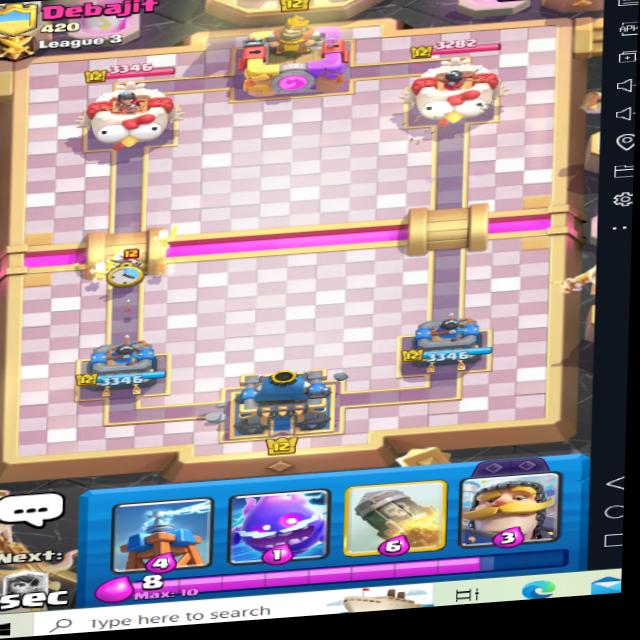electro-wizard: (108, 238, 157, 296)
